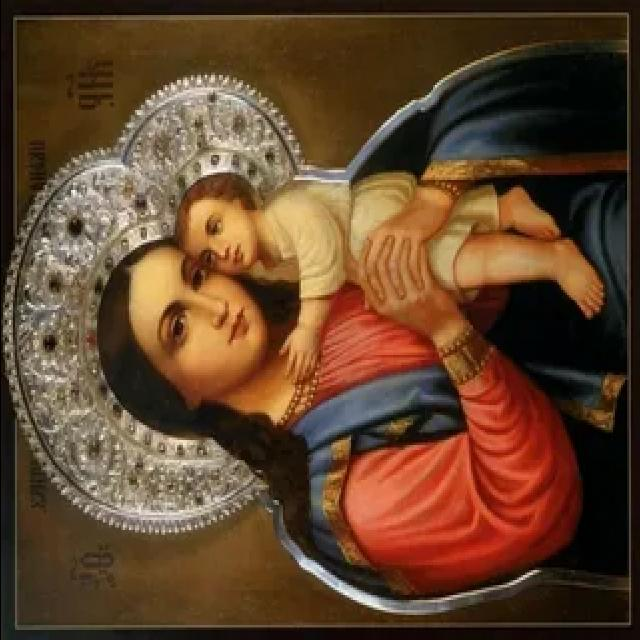mother of god: (90, 38, 640, 610)
